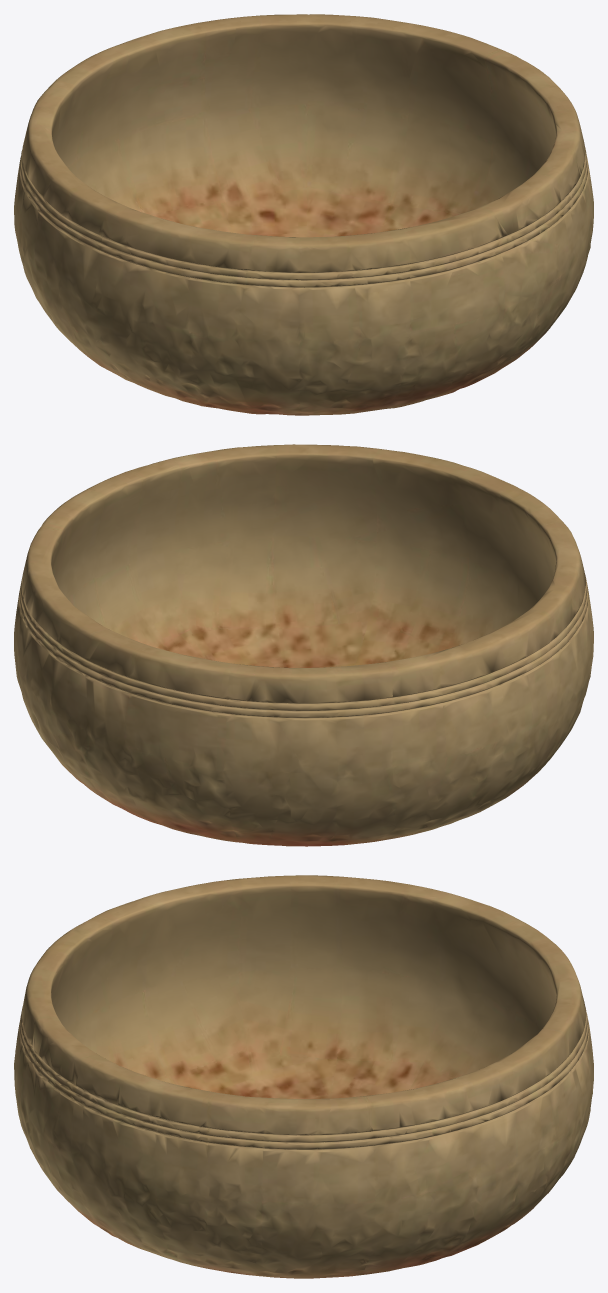
File: singing-bowl.glb
3 renders of one model, top to bottom at view 1: azimuth 30°, elevation 25°; view 2: azimuth 150°, elevation 25°; view 3: azimuth 270°, elevation 25°, orthographic.
Bounding box in the file's own units: 1.9 × 0.7599 × 1.9.
Materials: 1 (1 with a texture image).
